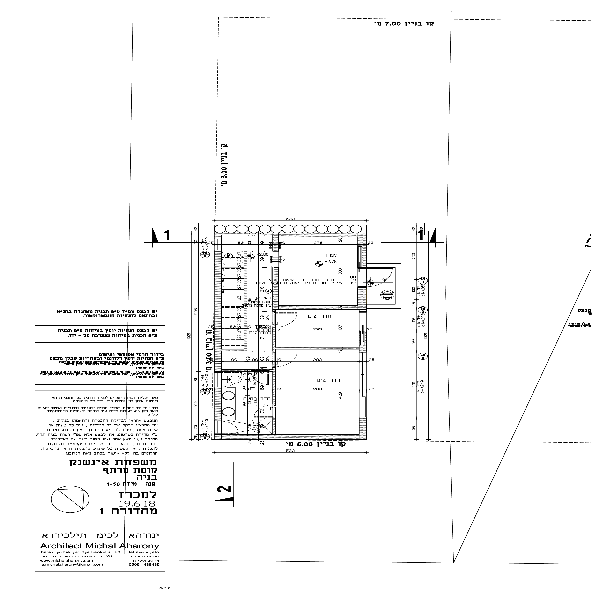room: (265, 346, 369, 442), (213, 235, 273, 377), (269, 234, 371, 314), (270, 300, 367, 354), (214, 364, 278, 442)
